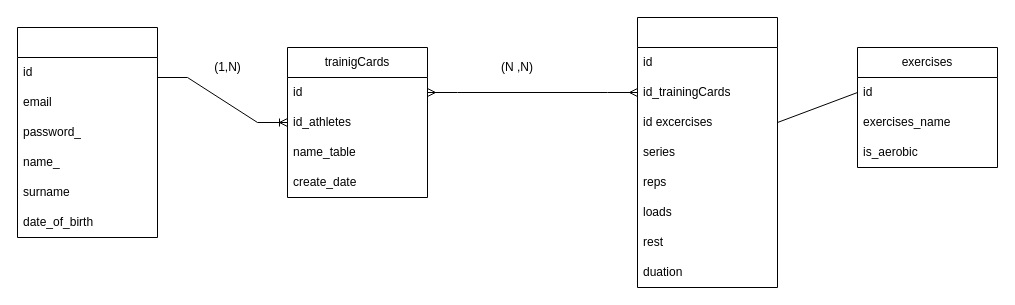
The diagram is 1015 pixels wide and 305 high, and some of its shapes have lost their labels. Here are the shapes that lost their labels. From the top down, the box of each, then its label:
(16, 26, 158, 238): athletes
(636, 16, 778, 288): cardsComposition
